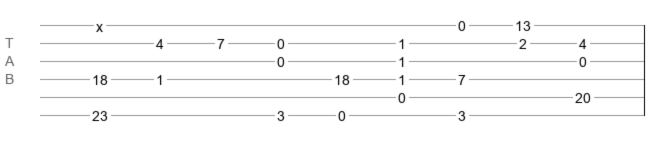0: (277, 36, 285, 46), (277, 54, 285, 64), (338, 108, 346, 118), (398, 90, 406, 100), (458, 18, 466, 28), (579, 54, 587, 64)
1: (156, 72, 164, 82), (398, 36, 406, 46), (398, 54, 406, 64), (398, 72, 406, 82)
13: (515, 18, 531, 28)
18: (92, 72, 108, 82), (334, 72, 350, 82)
2: (519, 36, 527, 46)
20: (575, 90, 591, 100)
23: (92, 108, 108, 118)
3: (277, 108, 285, 118), (458, 108, 466, 118)
4: (156, 36, 164, 46), (579, 36, 587, 46)
7: (217, 36, 225, 46), (458, 72, 466, 82)
x: (96, 19, 103, 27)
